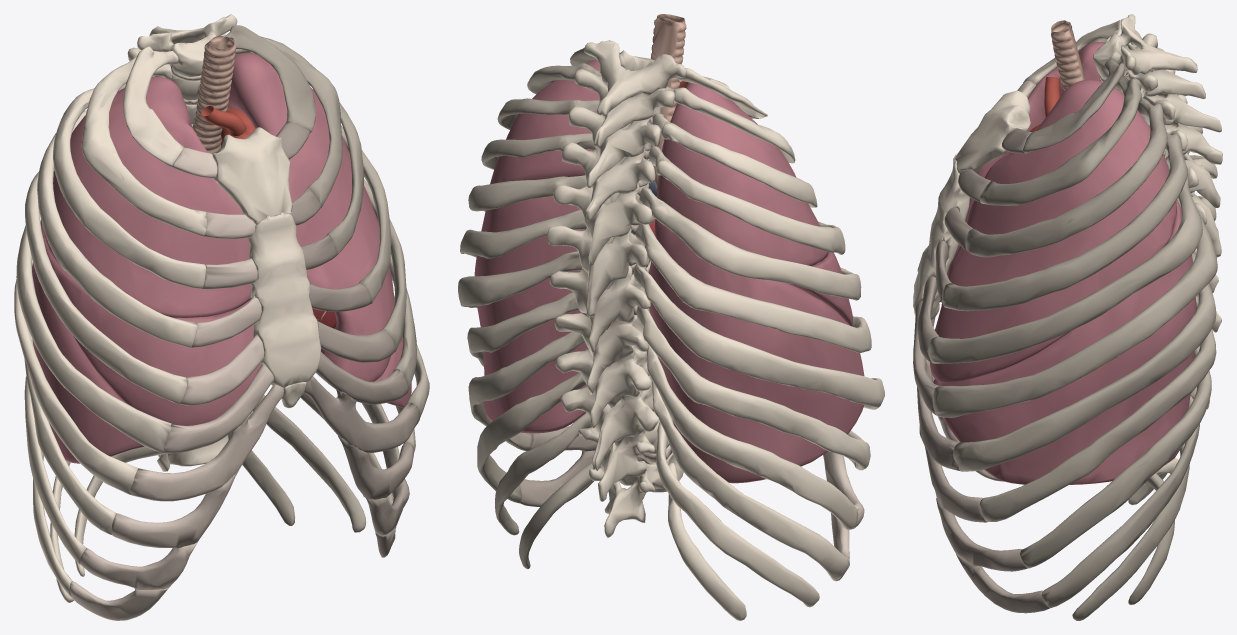
The model's file is thorax.glb.
The picture shows the model from 3 angles, left to right: view 1: azimuth 30°, elevation 25°; view 2: azimuth 150°, elevation 25°; view 3: azimuth 270°, elevation 25°; orthographic projection. The views are drawn at different scales.
Parts seen in each view (by area): view 1: RibsR_Bone, RibsR_Cartilage, LungR_superior_lobe_of_right_lung, RibsL_Bone, RibsL_Cartilage, LungL_superior_lobe_of_left_lung, LungR_middle_lobe_of_right_lung, Sternum_body_of_sternum, Sternum_manubrium_of_sternum, LungR_inferior_lobe_of_right_lung, Spine_Bone, Mediastinum_Airway (+1 smaller); view 2: RibsR_Bone, Spine_Bone, RibsL_Bone, LungR_inferior_lobe_of_right_lung, LungR_superior_lobe_of_right_lung, LungL_inferior_lobe_of_left_lung, LungL_superior_lobe_of_left_lung, RibsL_Cartilage, Mediastinum_Airway, RibsR_Cartilage, LungR_middle_lobe_of_right_lung; view 3: RibsL_Bone, LungL_superior_lobe_of_left_lung, LungL_inferior_lobe_of_left_lung, RibsL_Cartilage, Spine_Bone, Sternum_manubrium_of_sternum, Sternum_body_of_sternum, RibsR_Bone, LungR_superior_lobe_of_right_lung, Mediastinum_Airway, RibsR_Cartilage, Mediastinum_Aorta.
Part boxes in pixels (box(x1,y1,x2,y2)): RibsR_Bone: box(14, 46, 206, 602); RibsR_Cartilage: box(69, 147, 283, 620); LungR_superior_lobe_of_right_lung: box(43, 76, 251, 317); RibsL_Bone: box(225, 25, 429, 532); RibsL_Cartilage: box(276, 121, 420, 557); LungL_superior_lobe_of_left_lung: box(227, 52, 394, 381); LungR_middle_lobe_of_right_lung: box(43, 236, 260, 425); Sternum_body_of_sternum: box(248, 212, 321, 387); Sternum_manubrium_of_sternum: box(212, 127, 292, 224); LungR_inferior_lobe_of_right_lung: box(32, 220, 144, 463); Spine_Bone: box(127, 14, 237, 471); Mediastinum_Airway: box(192, 35, 235, 153); RibsR_Bone: box(633, 68, 884, 620); Spine_Bone: box(547, 40, 686, 537); RibsL_Bone: box(458, 48, 620, 568); LungR_inferior_lobe_of_right_lung: box(649, 219, 864, 483); LungR_superior_lobe_of_right_lung: box(656, 82, 828, 265); LungL_inferior_lobe_of_left_lung: box(474, 195, 587, 433); LungL_superior_lobe_of_left_lung: box(490, 59, 599, 184); RibsL_Cartilage: box(519, 426, 597, 506); Mediastinum_Airway: box(650, 14, 686, 187); RibsR_Cartilage: box(733, 101, 864, 581); LungR_middle_lobe_of_right_lung: box(792, 252, 852, 326); RibsL_Bone: box(928, 59, 1217, 620); LungL_superior_lobe_of_left_lung: box(930, 79, 1176, 383); LungL_inferior_lobe_of_left_lung: box(933, 199, 1196, 484); RibsL_Cartilage: box(913, 128, 1049, 613); Spine_Bone: box(1093, 14, 1222, 485); Sternum_manubrium_of_sternum: box(955, 90, 1030, 173); Sternum_body_of_sternum: box(914, 154, 969, 320); RibsR_Bone: box(1023, 20, 1217, 505); LungR_superior_lobe_of_right_lung: box(965, 41, 1104, 222); Mediastinum_Airway: box(1051, 20, 1085, 91); RibsR_Cartilage: box(913, 80, 1036, 481); Mediastinum_Aorta: box(1029, 77, 1060, 131).
Bounding box in the file's own units: 2.83 × 4.04 × 2.14.
